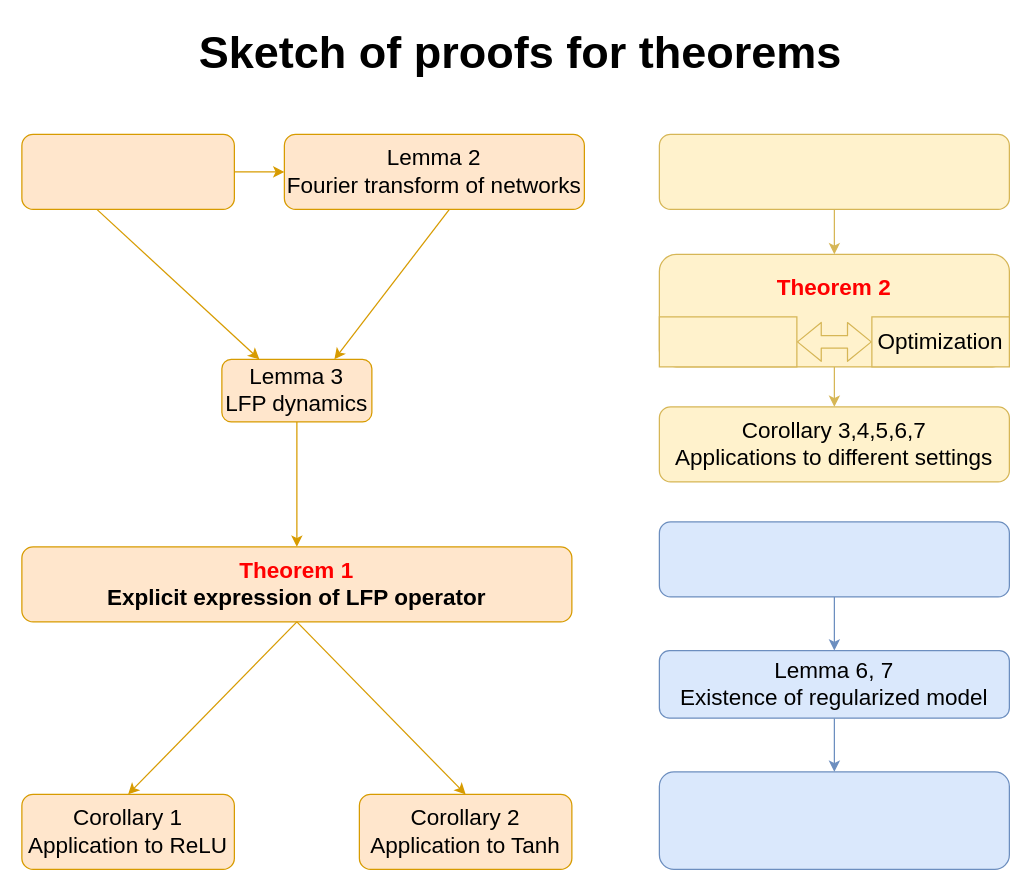
Image size: 1031x891. Some labels were removed from this diagram. Each missing label, with the centre of its shape:
"Gradient descent" belongs at point (727, 341).
"Lemma 1 Delta-like function" belongs at point (127, 171).
"Lemma 4 Properties of linear operator" belongs at point (833, 171).
"Lemma 5 Rademacher complexity" belongs at point (833, 559).
"Theorem 3 a priori generalization error bound" belongs at point (833, 820).
